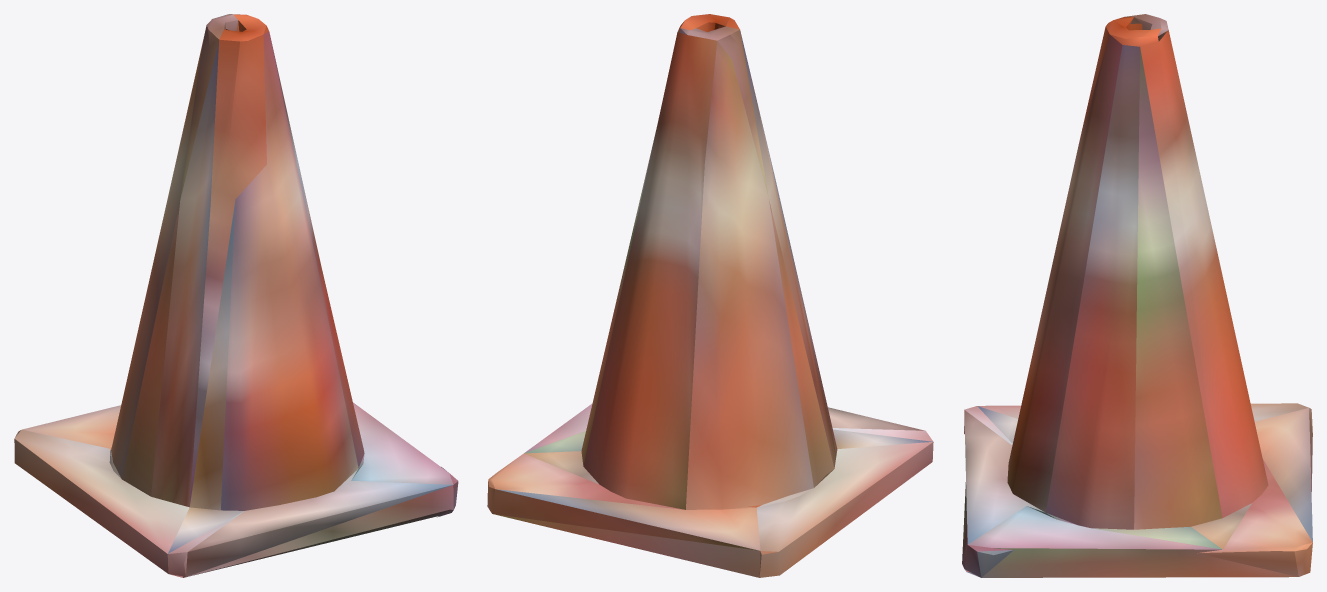
Rendered from traffic-cone.glb.
3 views of the same model, side by side, from view 1: azimuth 30°, elevation 25°; view 2: azimuth 150°, elevation 25°; view 3: azimuth 270°, elevation 25° (orthographic). The views are drawn at different scales.
Parts seen in each view (by area): view 1: Mesh_0.4256; view 2: Mesh_0.4256; view 3: Mesh_0.4256.
Part boxes in pixels (<box>): Mesh_0.4256: <box>14,14,458,577</box>; Mesh_0.4256: <box>487,14,933,577</box>; Mesh_0.4256: <box>962,14,1312,577</box>.
Bounding box in the file's own units: 0.4657 × 0.7 × 0.4635.
1 material, 1 textured.
